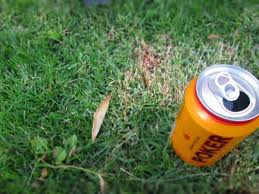can: (169, 64, 259, 169)
